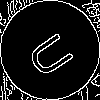U: (25, 25, 84, 81)
